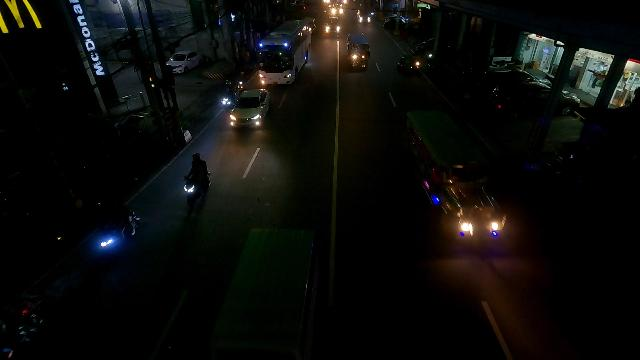bus: (257, 19, 312, 88)
car: (229, 88, 270, 129), (164, 49, 203, 73), (324, 16, 341, 36), (356, 10, 372, 25)
jeepney: (406, 109, 503, 240), (346, 32, 372, 71)
motorcycle: (183, 149, 213, 207), (221, 82, 240, 111)
